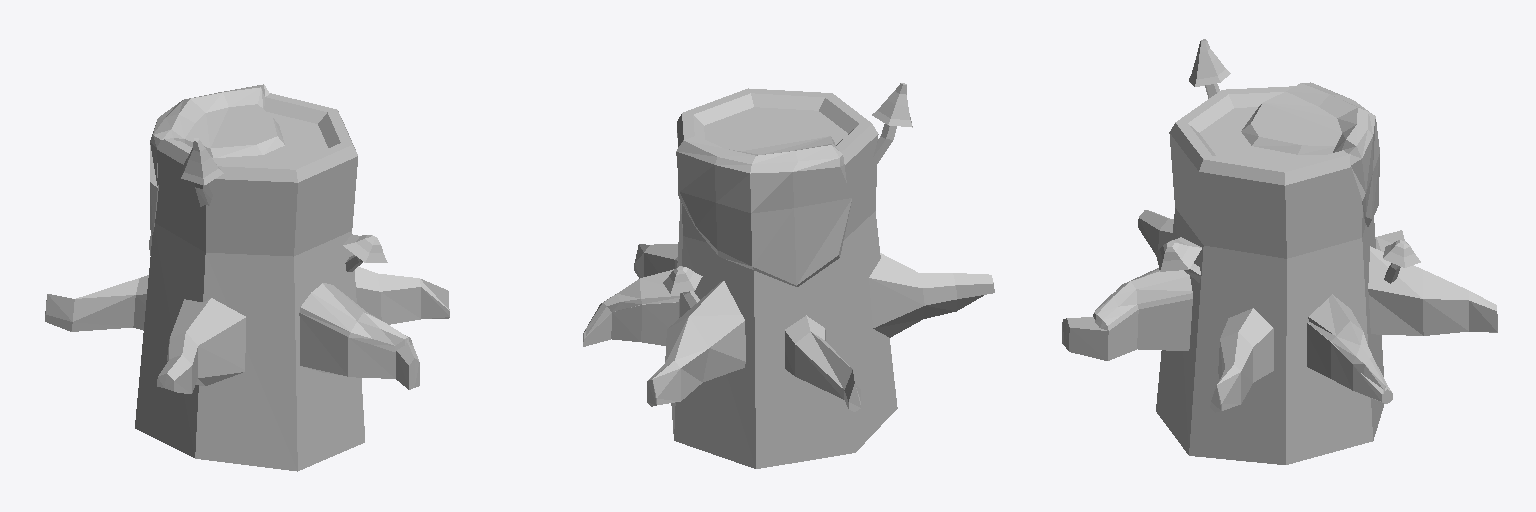
The model's file is old_log.obj.
3 views of the same model, side by side, from view 1: azimuth 30°, elevation 25°; view 2: azimuth 150°, elevation 25°; view 3: azimuth 270°, elevation 25° (orthographic).
Bounding box in the file's own units: 7.42 × 7.33 × 8.6.